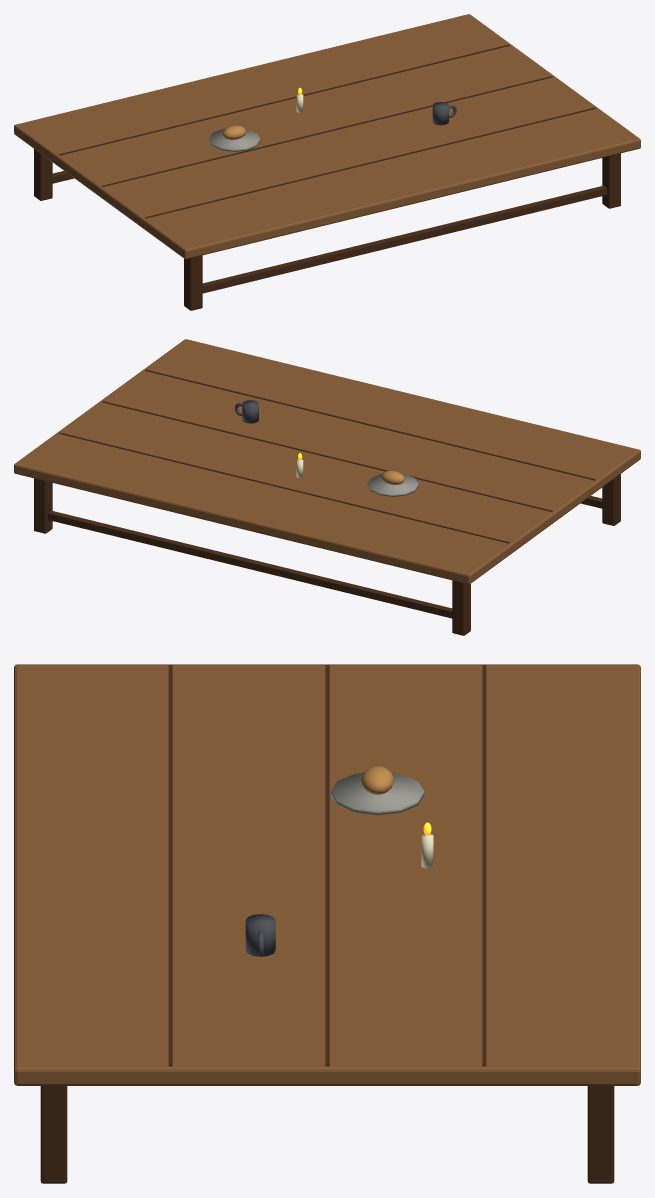
The model's file is table.glb.
The picture shows the model from 3 angles, top to bottom: view 1: azimuth 30°, elevation 25°; view 2: azimuth 150°, elevation 25°; view 3: azimuth 270°, elevation 25°; orthographic projection. The views are drawn at different scales.
Parts seen in each view (by area): view 1: table; view 2: table; view 3: table.
Part boxes in pixels (x1=…): table: x1=14, y1=14, x2=640, y2=310; table: x1=14, y1=339, x2=640, y2=635; table: x1=14, y1=664, x2=640, y2=1183.
Bounding box in the file's own units: 2.88 × 0.5636 × 1.88.
